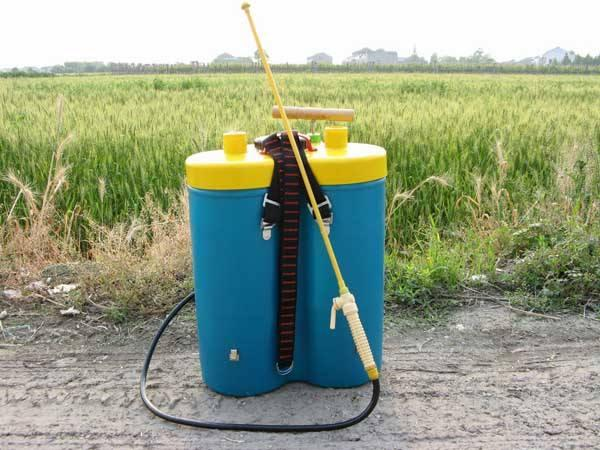berrl: (178, 121, 389, 394)
